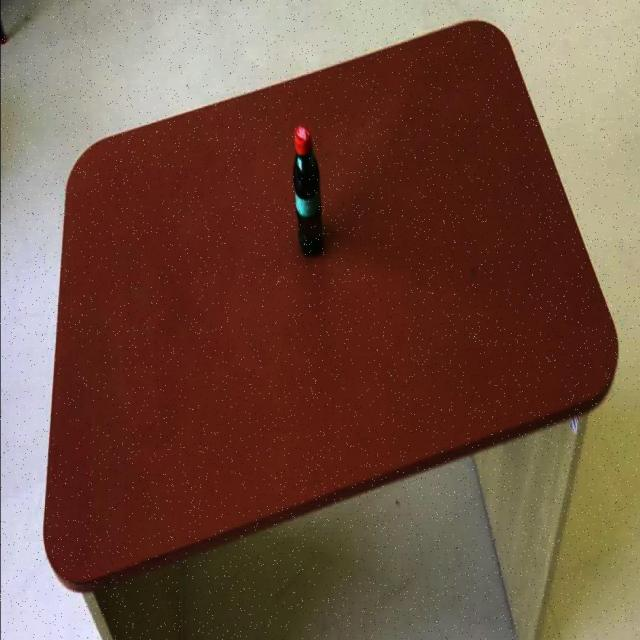Guarana: (43, 20, 619, 596), (292, 125, 325, 259)
